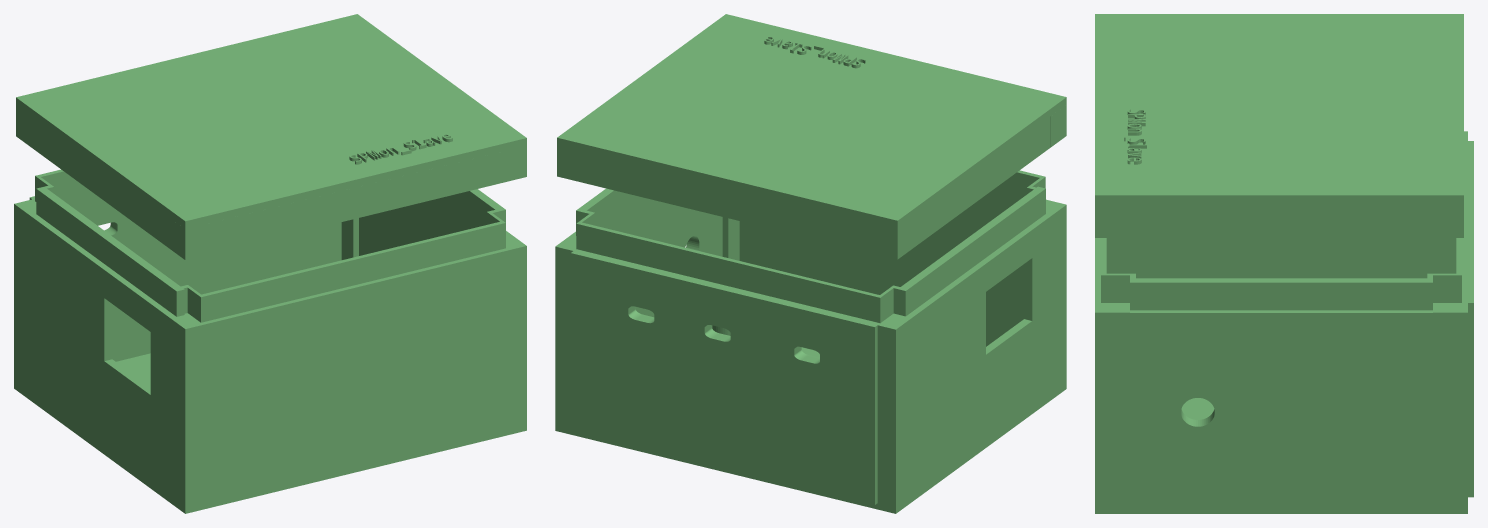
File: SPMon_SlaveBox.glb
The picture shows the model from 3 angles, left to right: view 1: azimuth 30°, elevation 25°; view 2: azimuth 150°, elevation 25°; view 3: azimuth 270°, elevation 25°; orthographic projection. The views are drawn at different scales.
Visible parts, largest first — view 1: Mesh_Mesh_head_geo.001_lambert2SG.001; view 2: Mesh_Mesh_head_geo.001_lambert2SG.001; view 3: Mesh_Mesh_head_geo.001_lambert2SG.001.
Part boxes in pixels (x1,y1,x2,y2): Mesh_Mesh_head_geo.001_lambert2SG.001: [14, 14, 526, 513]; Mesh_Mesh_head_geo.001_lambert2SG.001: [555, 14, 1066, 513]; Mesh_Mesh_head_geo.001_lambert2SG.001: [1095, 14, 1473, 513].
Bounding box in the file's own units: 0.085 × 0.0703 × 0.075.
